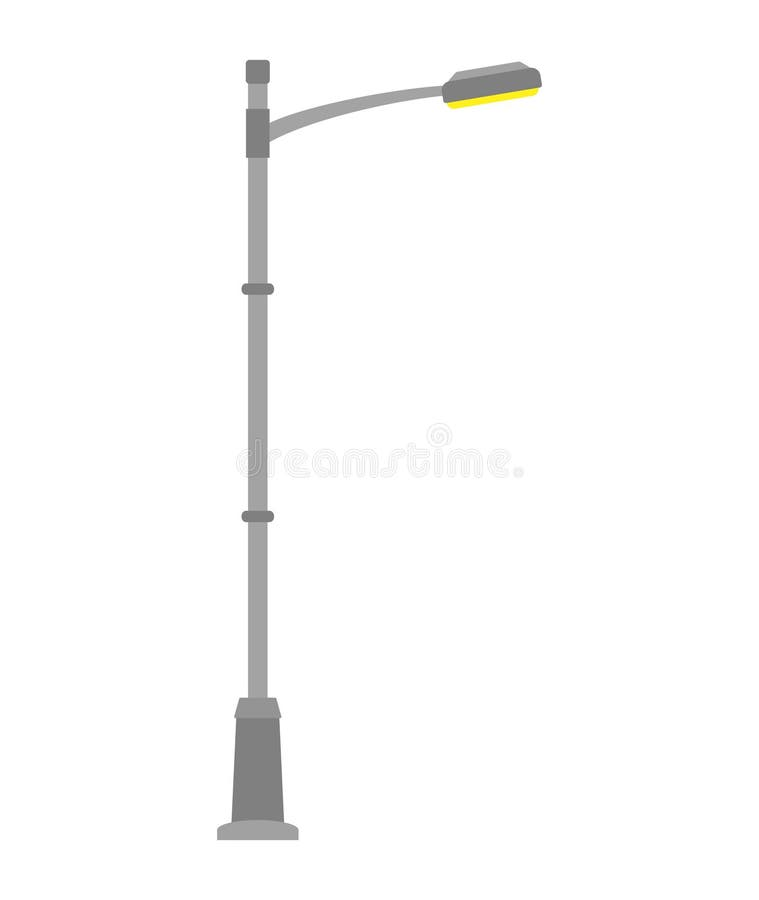Lamp: (224, 53, 535, 843)
